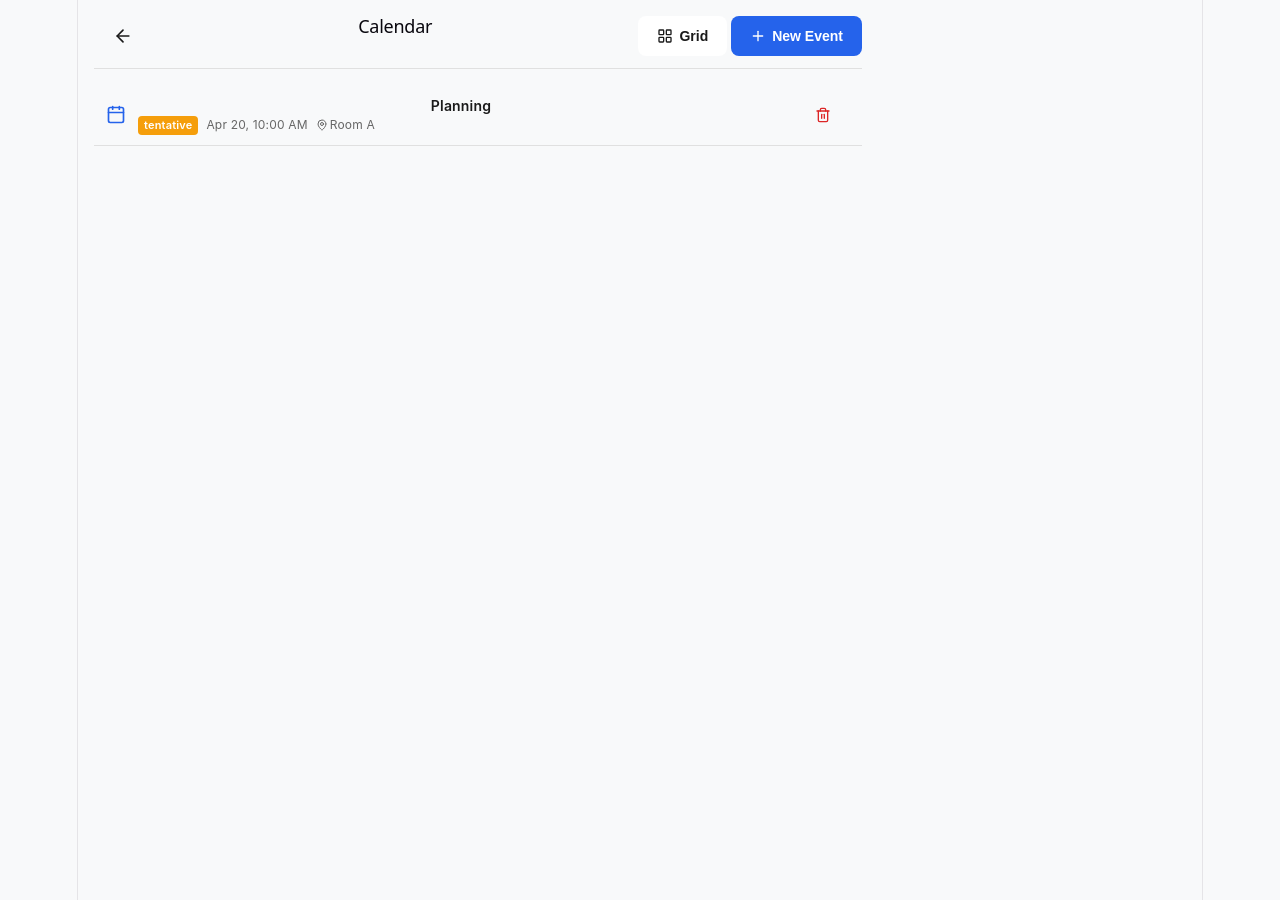
Test: CalendarManager › shows event detail with RSVP buttons when event is clicked
Click the text "Planning" at (461, 106), box top-left (431, 97), bottom-right (491, 114)
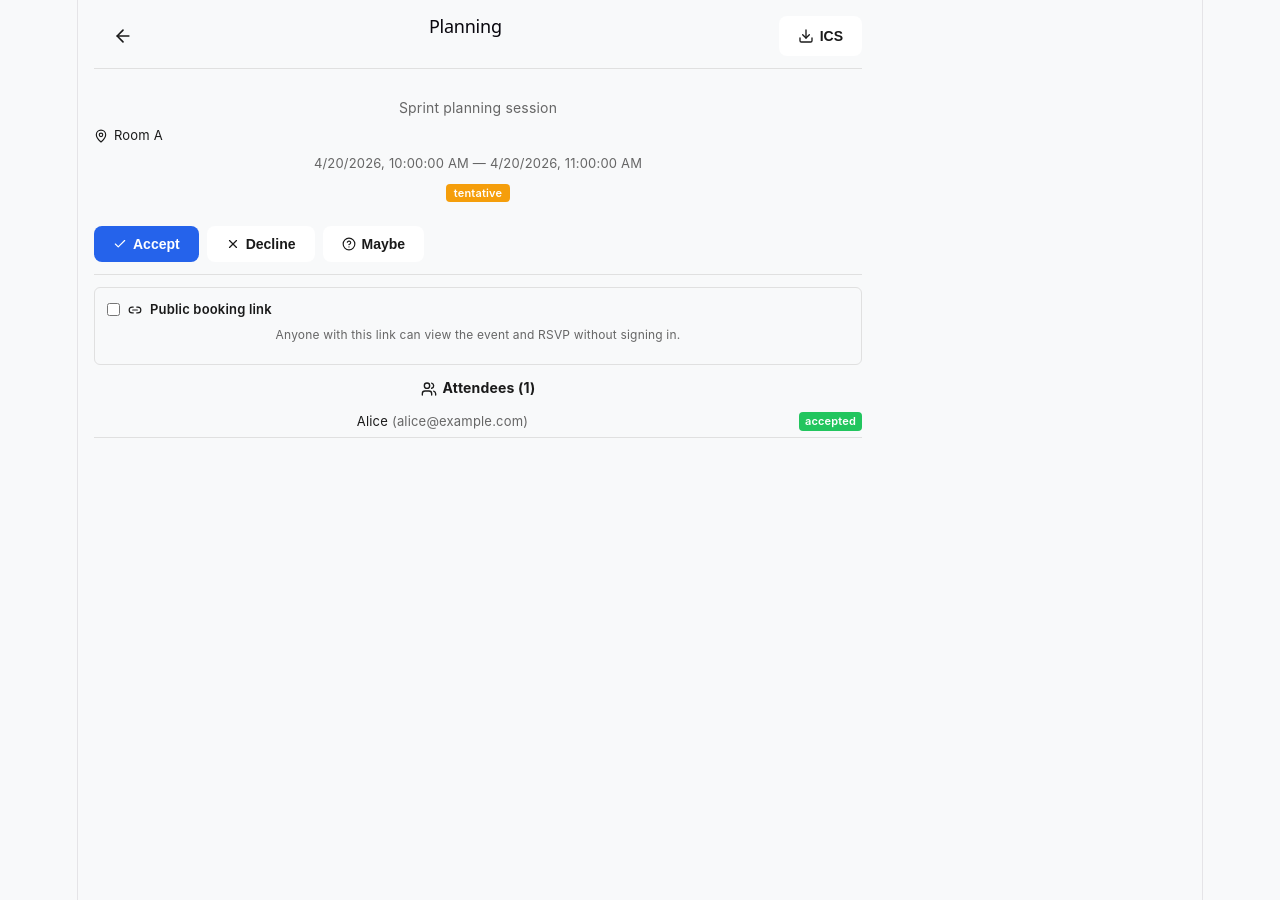
Expected: the button "Accept" is shown, top-left (94, 226), bottom-right (199, 262)
Expected: the button "Decline" is shown, top-left (207, 226), bottom-right (314, 262)
Expected: the button "Maybe" is shown, top-left (322, 226), bottom-right (424, 262)
